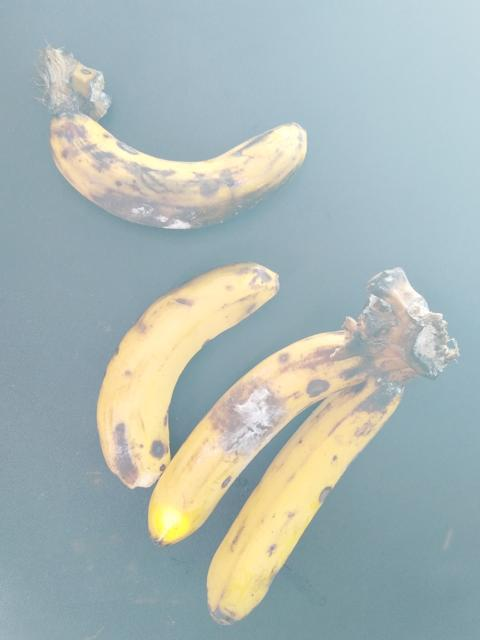overripe: (197, 377, 412, 639), (127, 328, 368, 550), (71, 251, 280, 490)
rotten: (40, 69, 320, 245)
